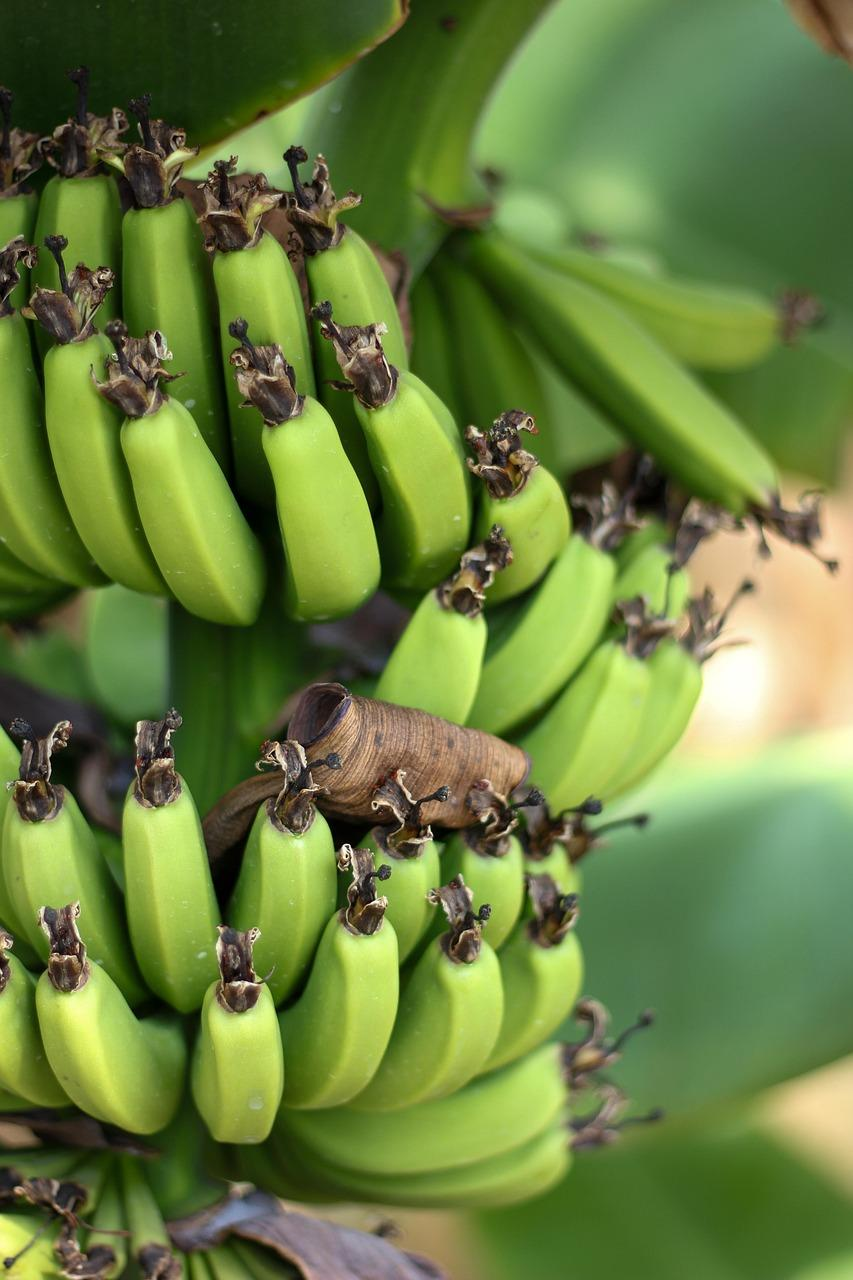banana: (0, 63, 813, 1275)
